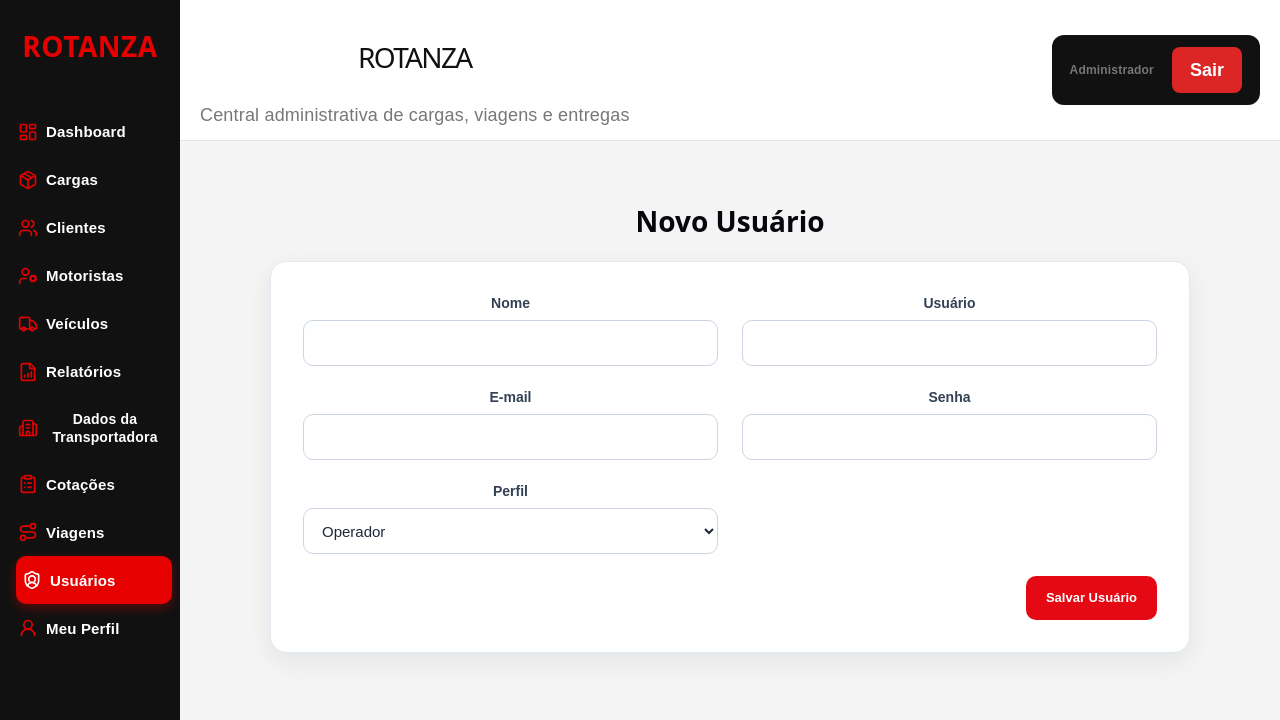
Test: continua exigindo cliente comercial na criação de usuário cliente
The image size is (1280, 720).
Step 1. Select "Cliente" in the dropdown → (510, 531), box [303,508,718,554]
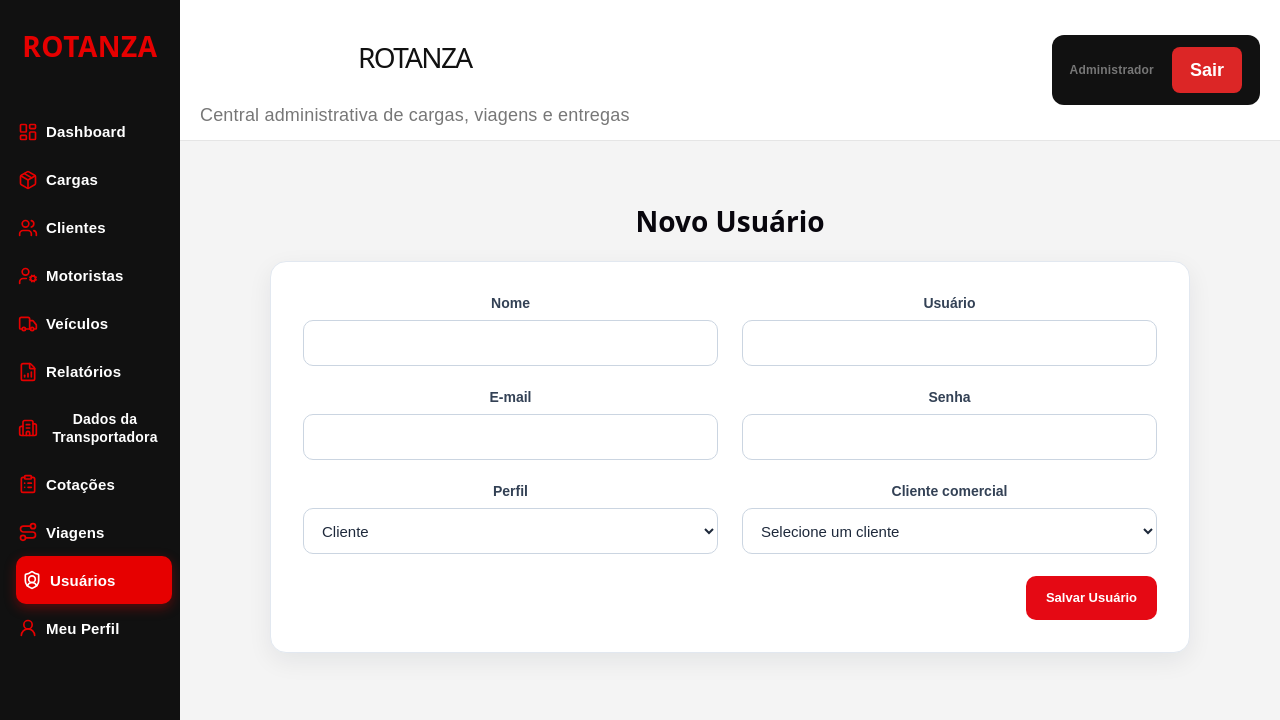
Now the text "Cliente comercial" is shown, box [892,483,1007,499]
